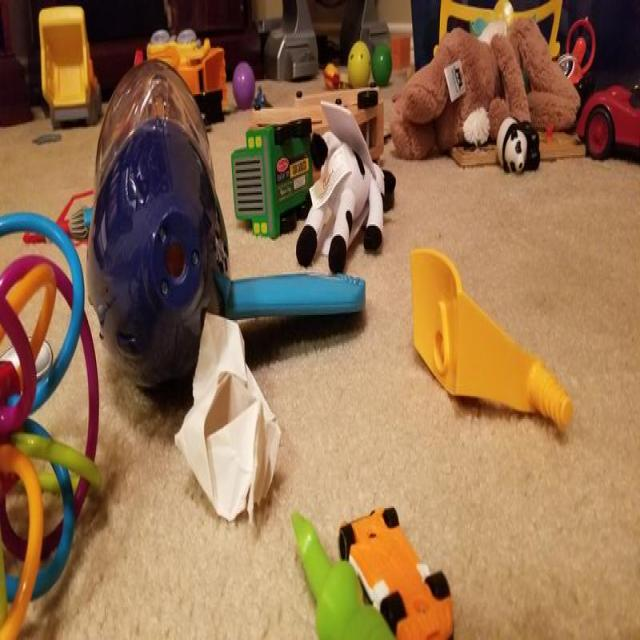toy: (0, 204, 112, 636), (97, 63, 233, 395), (412, 246, 575, 437), (402, 16, 574, 160), (338, 501, 456, 640), (228, 84, 320, 237), (290, 506, 394, 640), (302, 112, 393, 265), (140, 23, 230, 119), (221, 264, 378, 318), (36, 8, 104, 124), (579, 74, 640, 160), (17, 188, 98, 248), (321, 89, 384, 166), (496, 116, 542, 176), (347, 34, 370, 89), (232, 62, 255, 114), (371, 43, 394, 84), (321, 58, 343, 90), (256, 78, 276, 110)
